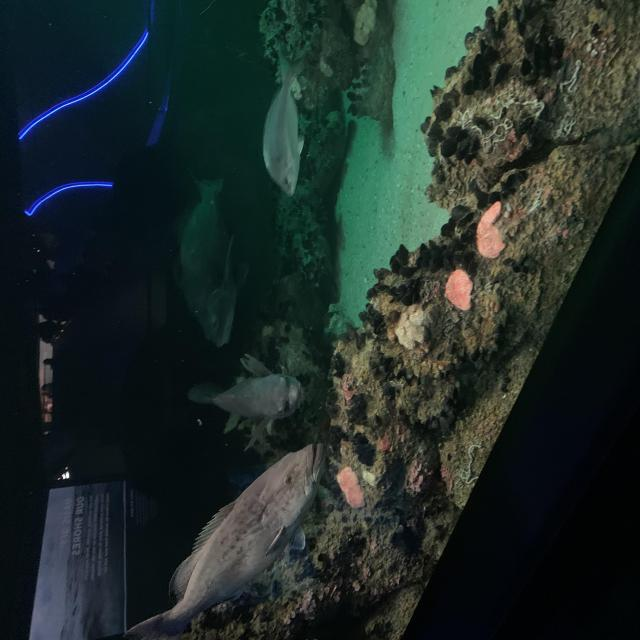fish: (121, 440, 328, 640), (169, 167, 252, 350), (186, 350, 306, 446), (261, 40, 308, 200)
